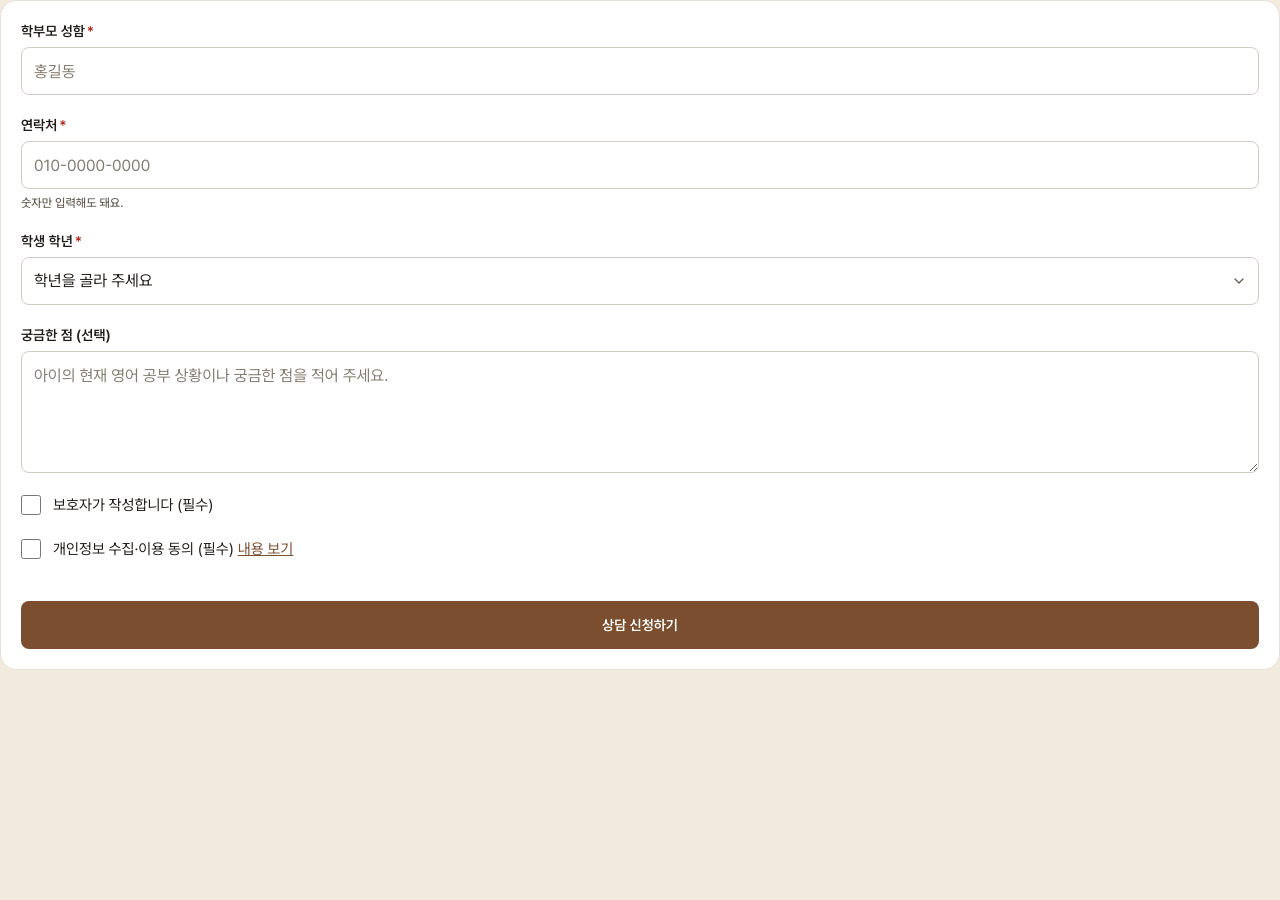
ConsultForm › shows all five required errors and does not submit an empty form
Click the button "상담 신청하기" at [640, 625], box [21,601,1259,649]
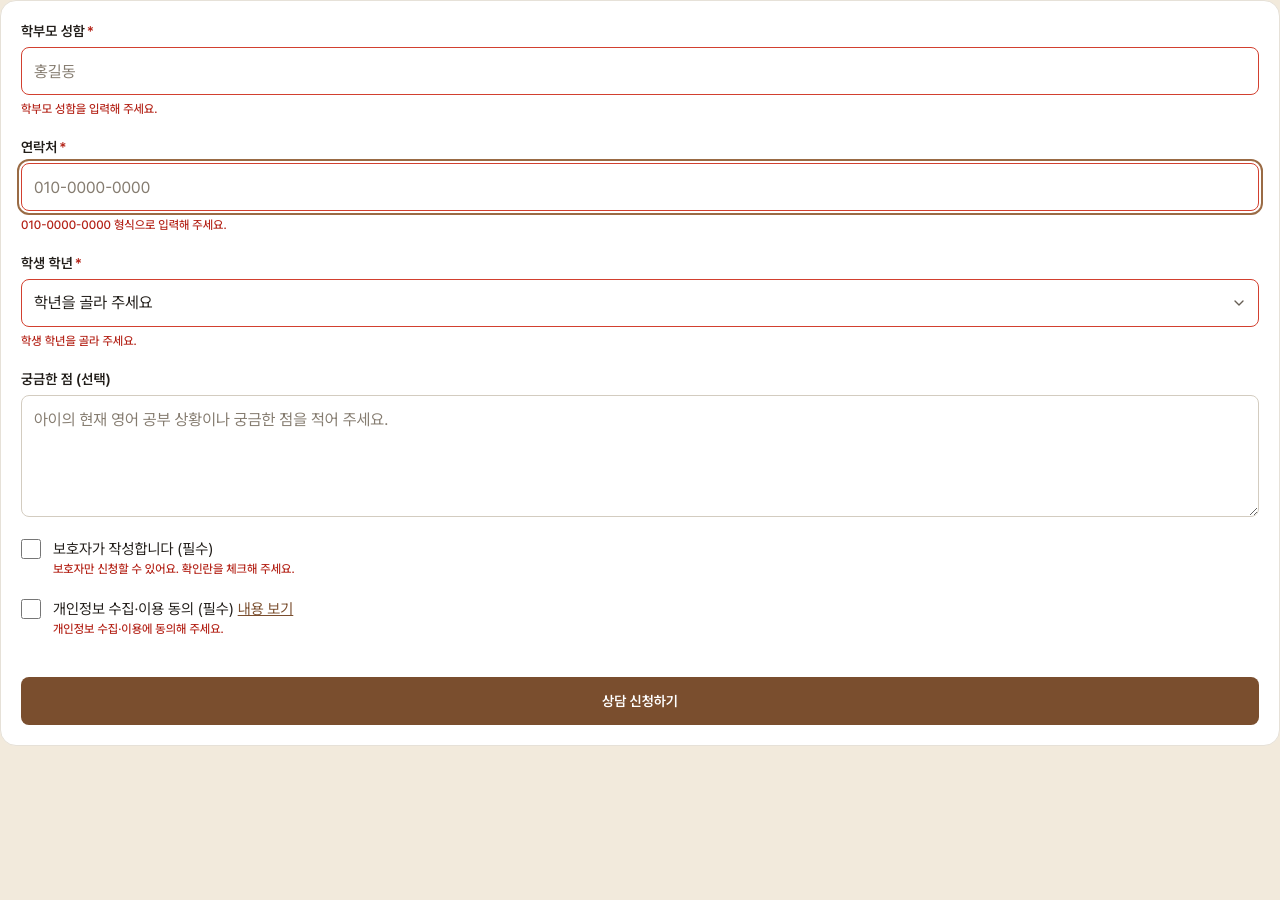
Result: the text "학부모 성함을 입력해 주세요." is shown at [21,102,157,116]
Result: the text "010-0000-0000 형식으로 입력해 주세요." is shown at [21,218,227,232]
Result: the text "학생 학년을 골라 주세요." is shown at [21,334,137,348]
